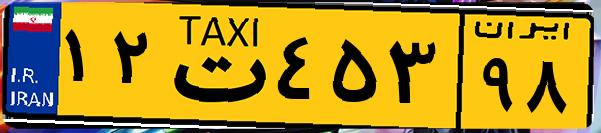1: (57, 26, 110, 100)
2: (110, 28, 158, 98)
3: (385, 28, 445, 110)
4: (270, 28, 330, 110)
5: (330, 28, 385, 110)
8: (525, 38, 570, 115)
9: (475, 38, 525, 113)
ت: (158, 12, 270, 120)
